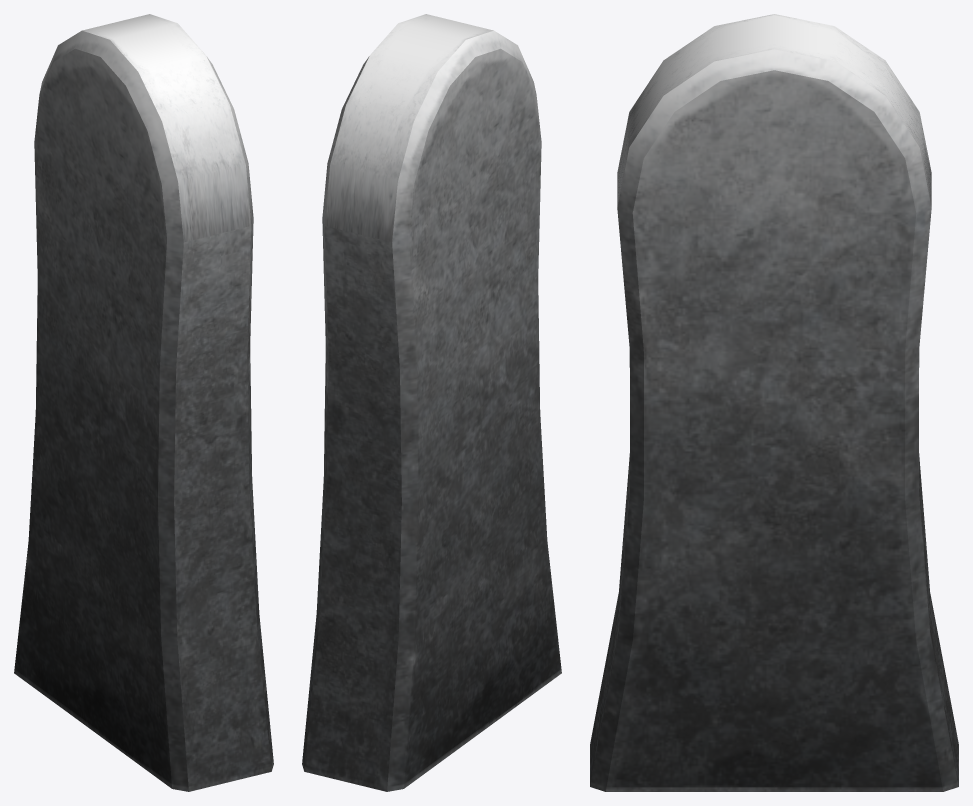
File: GraveStone_3.fbx
3 renders of one model, left to right at view 1: azimuth 30°, elevation 25°; view 2: azimuth 150°, elevation 25°; view 3: azimuth 270°, elevation 25°, orthographic. The views are drawn at different scales.
Parts seen in each view (by area): view 1: polySurface17; view 2: polySurface17; view 3: polySurface17.
Part boxes in pixels (x1,y1,x2,y2): polySurface17: [14, 14, 273, 791]; polySurface17: [302, 14, 561, 791]; polySurface17: [590, 14, 958, 791].
Bounding box in the file's own units: 20.57 × 133 × 60.4.
